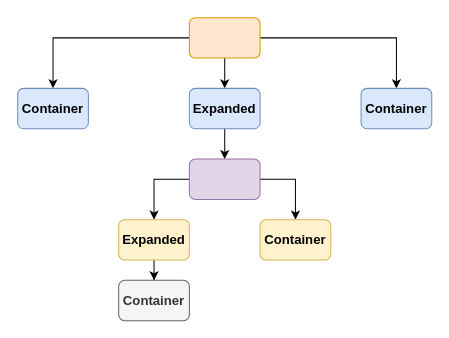
The diagram is 449 pixels wide and 338 high, and some of its shapes have lost their labels. The shapes that lost their labels are listed below. From the top down, each one's centre as x and y in pixels, then its label:
At (x=224, y=37): "root".
At (x=224, y=178): "Row".
